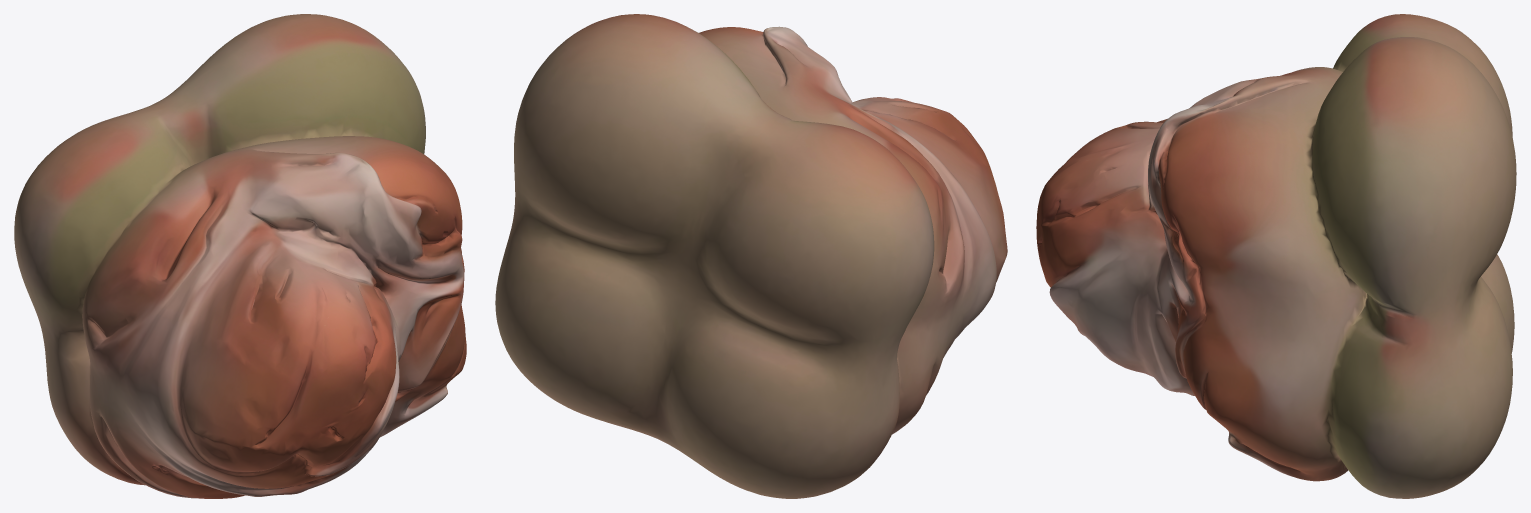
Rendered from Nete.glb.
3 views of the same model, side by side, from view 1: azimuth 30°, elevation 25°; view 2: azimuth 150°, elevation 25°; view 3: azimuth 270°, elevation 25° (orthographic). The views are drawn at different scales.
Visible parts, largest first — view 1: tripo_node_4b83a671-22a1-4e5b-82ce-e653495b7979; view 2: tripo_node_4b83a671-22a1-4e5b-82ce-e653495b7979; view 3: tripo_node_4b83a671-22a1-4e5b-82ce-e653495b7979.
Boxes of the visible parts, left/top/right/bottom form: tripo_node_4b83a671-22a1-4e5b-82ce-e653495b7979: left=14, top=14, right=466, bottom=498; tripo_node_4b83a671-22a1-4e5b-82ce-e653495b7979: left=495, top=14, right=1007, bottom=498; tripo_node_4b83a671-22a1-4e5b-82ce-e653495b7979: left=1036, top=14, right=1516, bottom=498.
Size of the model in its own units: 0.9802 by 0.9639 by 0.9158.
1 material, 1 textured.
